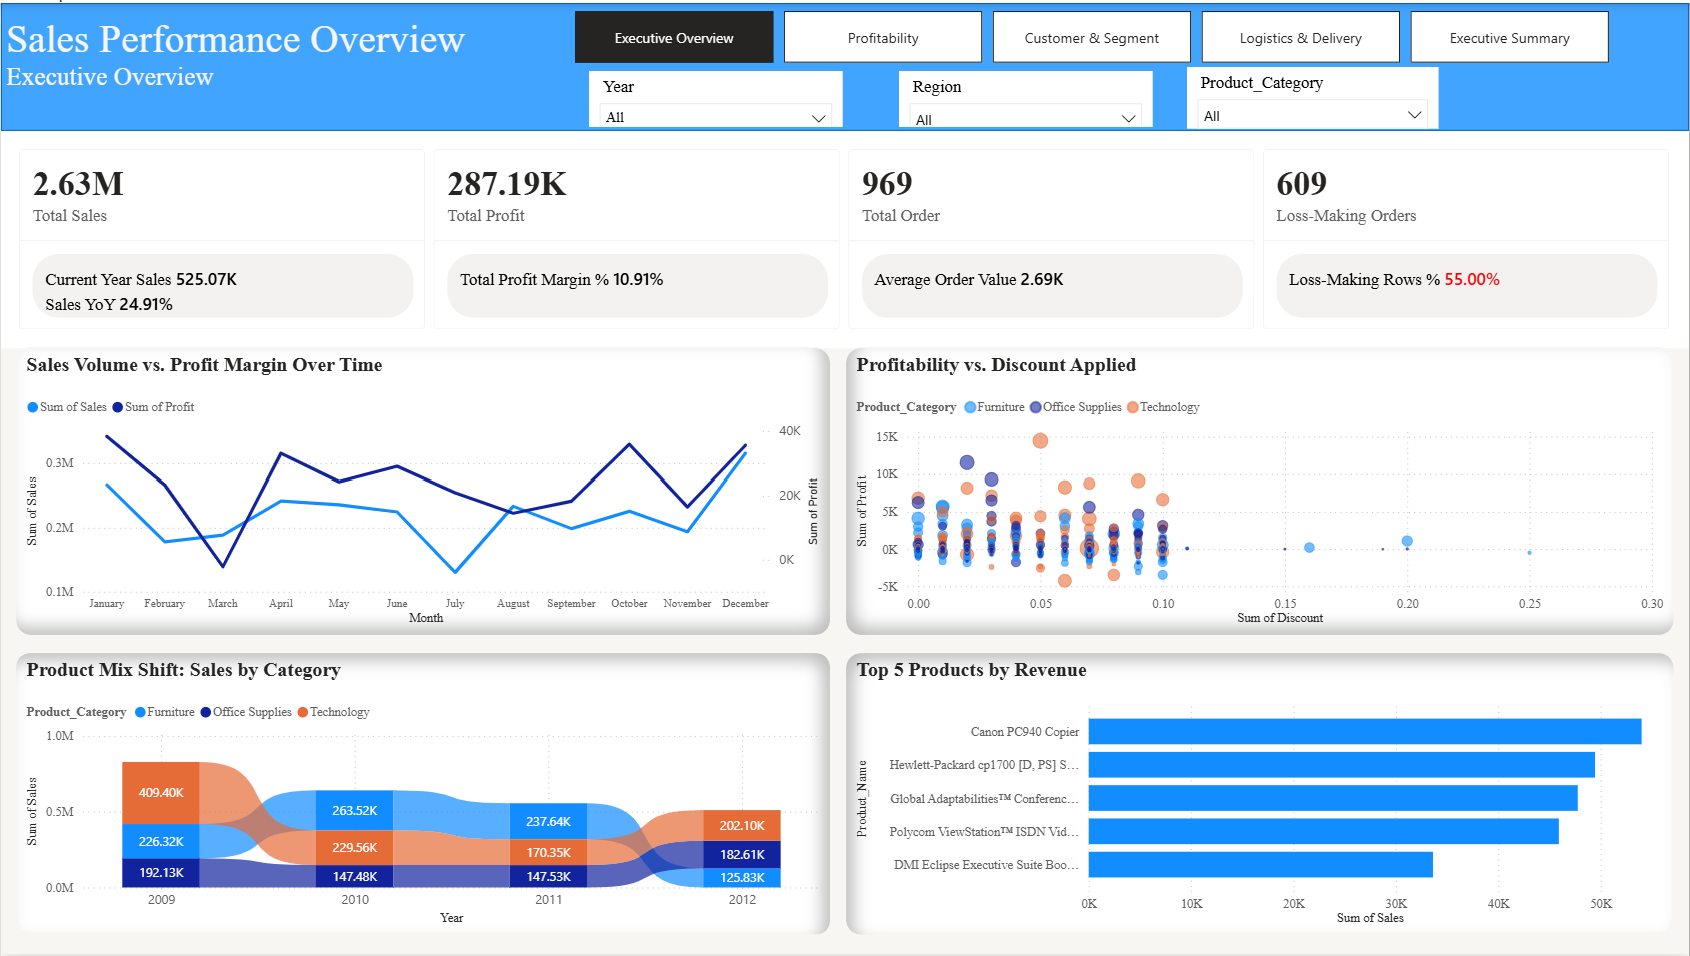

This screenshot's page, from the dashboard's own definition file:
{"tool":"powerbi","page":{"name":"Executive Overview","canvas":[1600,900],"ordinal":0},"visuals":[{"type":"shape","box":[0,0,1600,121.3],"z":0},{"type":"cardVisual","fields":{"Data":["Working Sheet.Total Sales 1","Working Sheet.Total Profit 1","Working Sheet.Total Order 1","Working Sheet.Loss-Making Orders 1"]},"box":[0,120.7,1600,205.9],"z":1000},{"type":"textbox","box":[0,7.1,475.7,113.6],"z":2000},{"type":"pageNavigator","box":[543.8,7.8,982,49.3],"z":3000},{"type":"slicer","fields":{"Values":["Working Sheet.Order_Date.Variation.Date Hierarchy.Year"]},"box":[557.5,64.5,240.6,52.8],"z":4000},{"type":"slicer","fields":{"Values":["Working Sheet.Product_Category"]},"box":[1124.7,60.6,238.6,58.7],"z":5000},{"type":"lineChart","title":"Sales Volume vs. Profit Margin Over Time","fields":{"Category":["Working Sheet.Order_Date.Variation.Date Hierarchy.Month"],"Y":["Sum(Working Sheet.Sales)"],"Y2":["Sum(Working Sheet.Profit)"]},"box":[13.3,326.1,773.5,273],"z":6000},{"type":"ribbonChart","title":"Product Mix Shift: Sales by Category","fields":{"Category":["Working Sheet.Order_Date.Variation.Date Hierarchy.Year"],"Series":["Working Sheet.Product_Category"],"Y":["Sum(Working Sheet.Sales)"]},"box":[13.3,614.2,773.5,269.2],"z":7000},{"type":"slicer","fields":{"Values":["Working Sheet.Region"]},"box":[850.9,64.5,240.6,52.8],"z":8000},{"type":"clusteredBarChart","title":"Top 5 Products by Revenue","fields":{"Category":["Working Sheet.Product_Name"],"Y":["Sum(Working Sheet.Sales)"]},"box":[800,614.2,786.7,269.2],"z":9000},{"type":"scatterChart","title":"Profitability vs. Discount Applied","fields":{"Category":["Working Sheet.Sales"],"Series":["Working Sheet.Product_Category"],"Size":["Sum(Working Sheet.Sales)"],"X":["Sum(Working Sheet.Discount)"],"Y":["Sum(Working Sheet.Profit)"]},"box":[800,326.1,786.7,273],"z":10000}]}

Visuals, with their boxes in screenshot pixels (x1, y1, x2, y2), scaled from the page's 1600x900 canvas onto the 1690x956 screenshot:
shape: {"left": 0, "top": 0, "right": 1689, "bottom": 129}
cardVisual - Working Sheet.Total Sales 1 x Working Sheet.Total Profit 1: {"left": 0, "top": 128, "right": 1689, "bottom": 347}
textbox: {"left": 0, "top": 8, "right": 502, "bottom": 128}
pageNavigator: {"left": 574, "top": 8, "right": 1612, "bottom": 61}
slicer - Working Sheet.Order_Date.Variation.Date Hierarchy.Year: {"left": 589, "top": 69, "right": 843, "bottom": 125}
slicer - Working Sheet.Product_Category: {"left": 1188, "top": 64, "right": 1440, "bottom": 127}
"Sales Volume vs. Profit Margin Over Time" lineChart: {"left": 14, "top": 346, "right": 831, "bottom": 636}
"Product Mix Shift: Sales by Category" ribbonChart: {"left": 14, "top": 652, "right": 831, "bottom": 938}
slicer - Working Sheet.Region: {"left": 899, "top": 69, "right": 1153, "bottom": 125}
"Top 5 Products by Revenue" clusteredBarChart: {"left": 845, "top": 652, "right": 1676, "bottom": 938}
"Profitability vs. Discount Applied" scatterChart: {"left": 845, "top": 346, "right": 1676, "bottom": 636}
